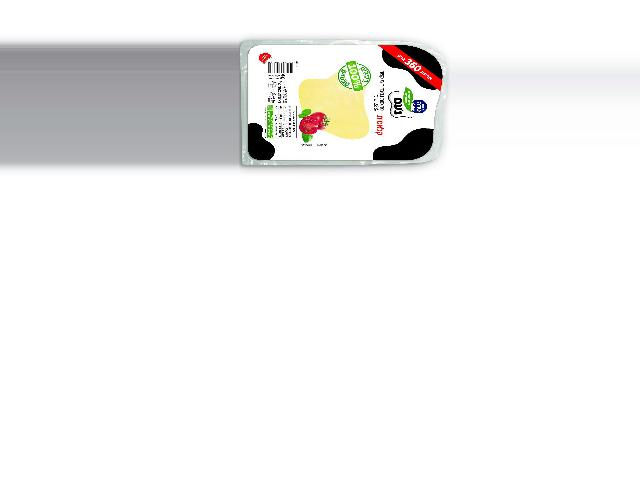cheese: (240, 39, 449, 165)
